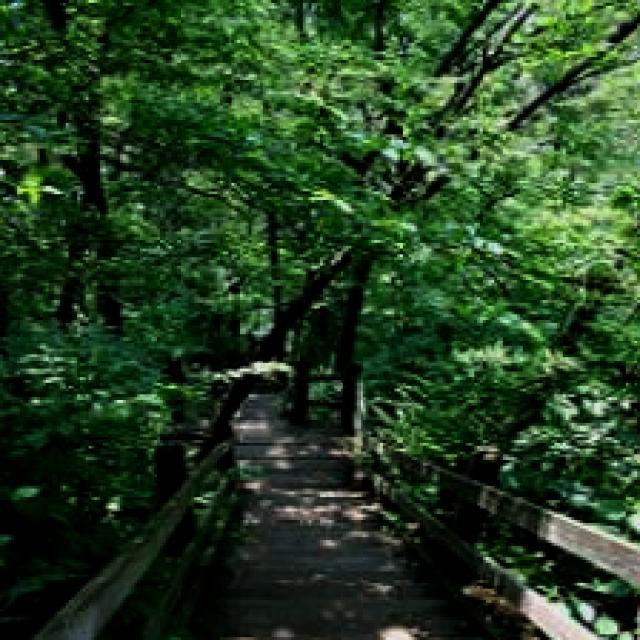upstair: (129, 410, 524, 635)
